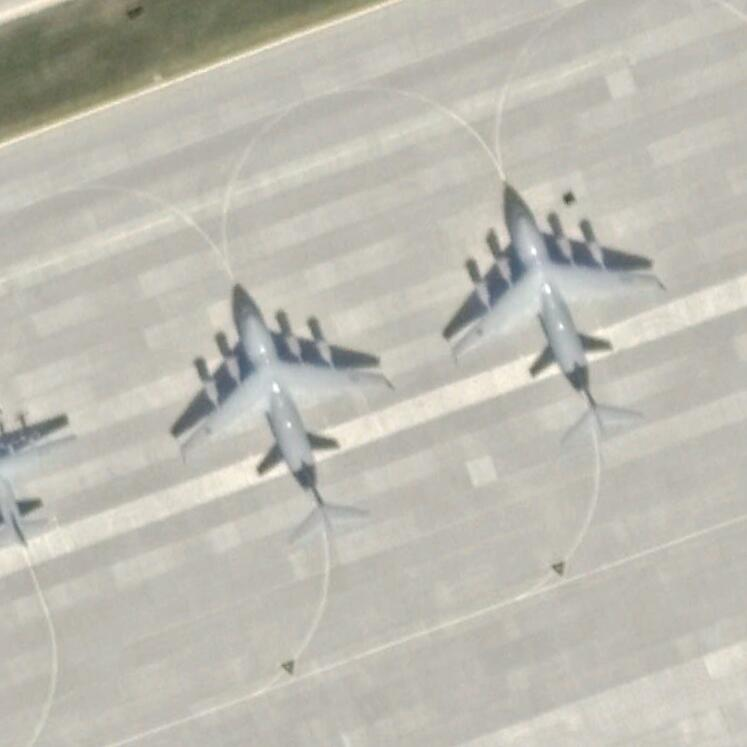A3: (173, 300, 396, 545), (446, 210, 670, 447)
